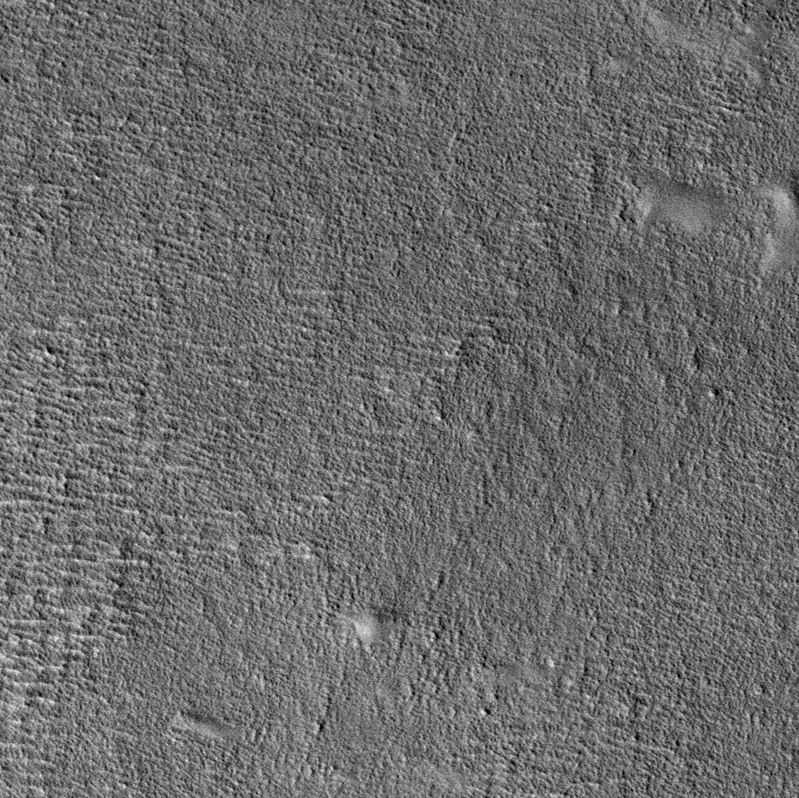dust_devil: (330, 609, 405, 647)
